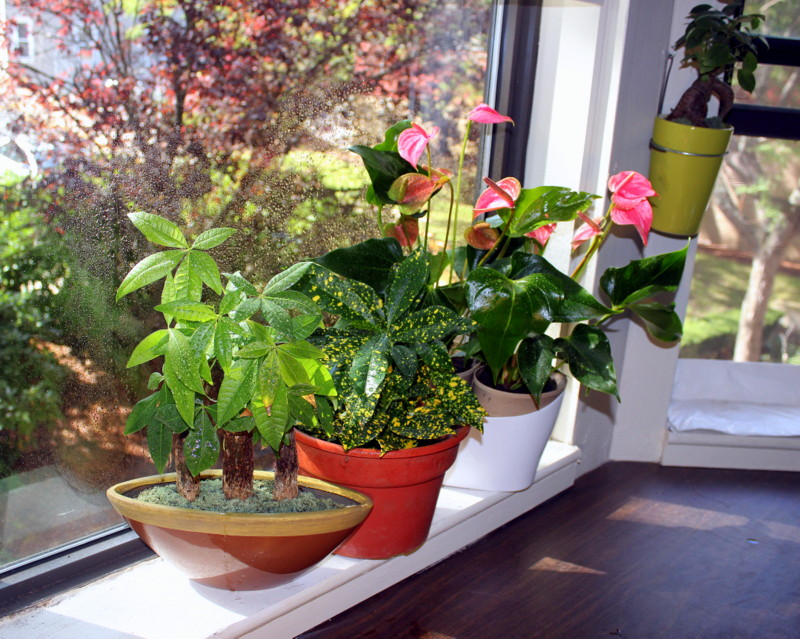potted plant: (124, 227, 370, 599), (298, 267, 455, 569), (652, 8, 731, 243)
